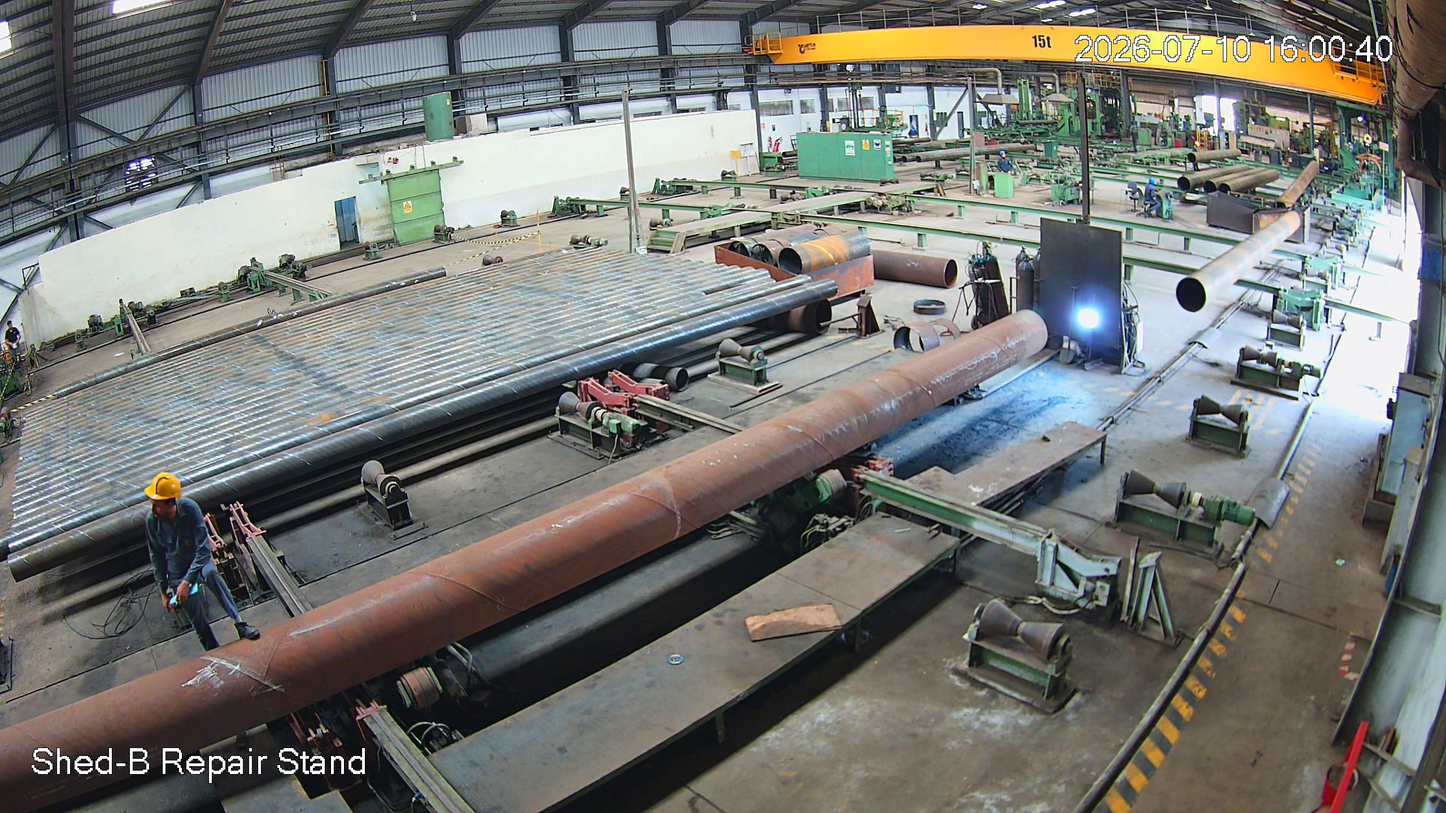Person: (126, 476, 279, 652)
